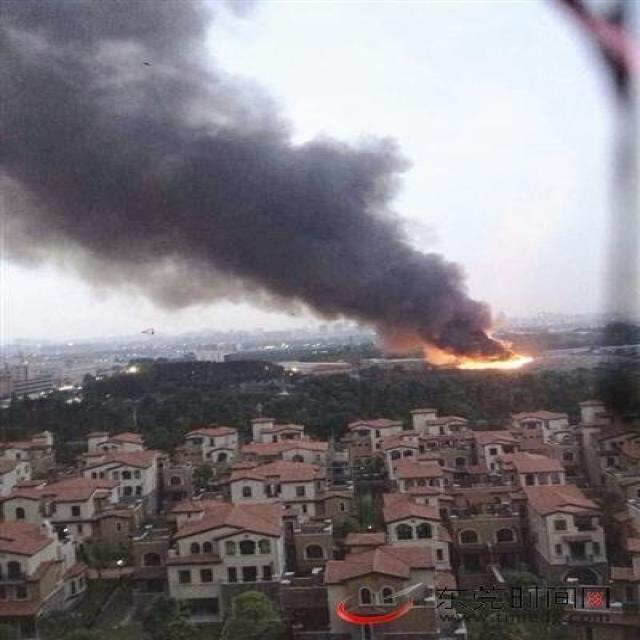Fire: (456, 352, 534, 370)
Smoke: (1, 2, 514, 366)
